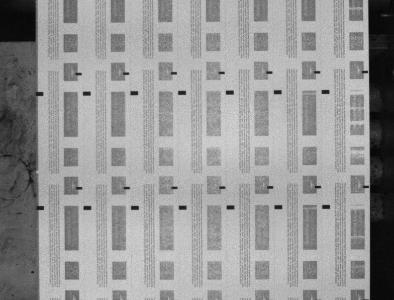qblock: (322, 204, 331, 209), (36, 205, 44, 210), (83, 91, 91, 96), (178, 90, 186, 95), (131, 205, 139, 210), (130, 91, 139, 95), (322, 90, 330, 94), (274, 90, 282, 94), (226, 90, 234, 94), (275, 205, 283, 209), (227, 205, 235, 209), (179, 205, 187, 209), (36, 92, 43, 96), (84, 206, 91, 210)
smallqblock: (76, 186, 83, 190), (171, 71, 177, 75), (75, 72, 82, 75), (267, 186, 274, 189), (315, 185, 322, 188), (363, 185, 370, 188), (123, 72, 129, 75), (315, 71, 321, 74), (219, 71, 225, 74), (267, 71, 273, 74), (124, 186, 130, 189), (363, 70, 369, 73), (172, 186, 178, 189), (220, 186, 226, 189)
